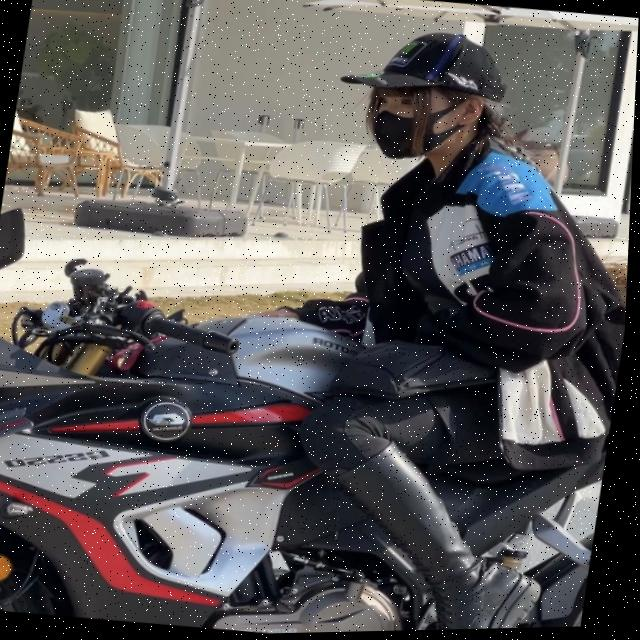illegal_helmet: (317, 13, 530, 189)
